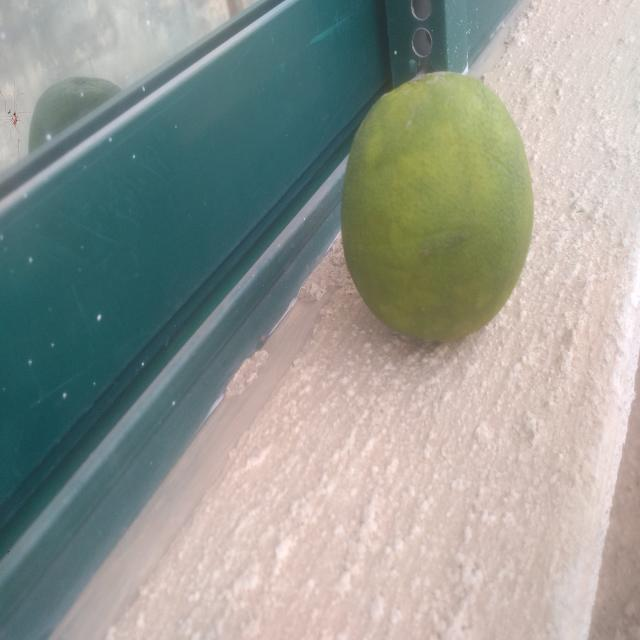Unripe: (329, 53, 562, 388)
